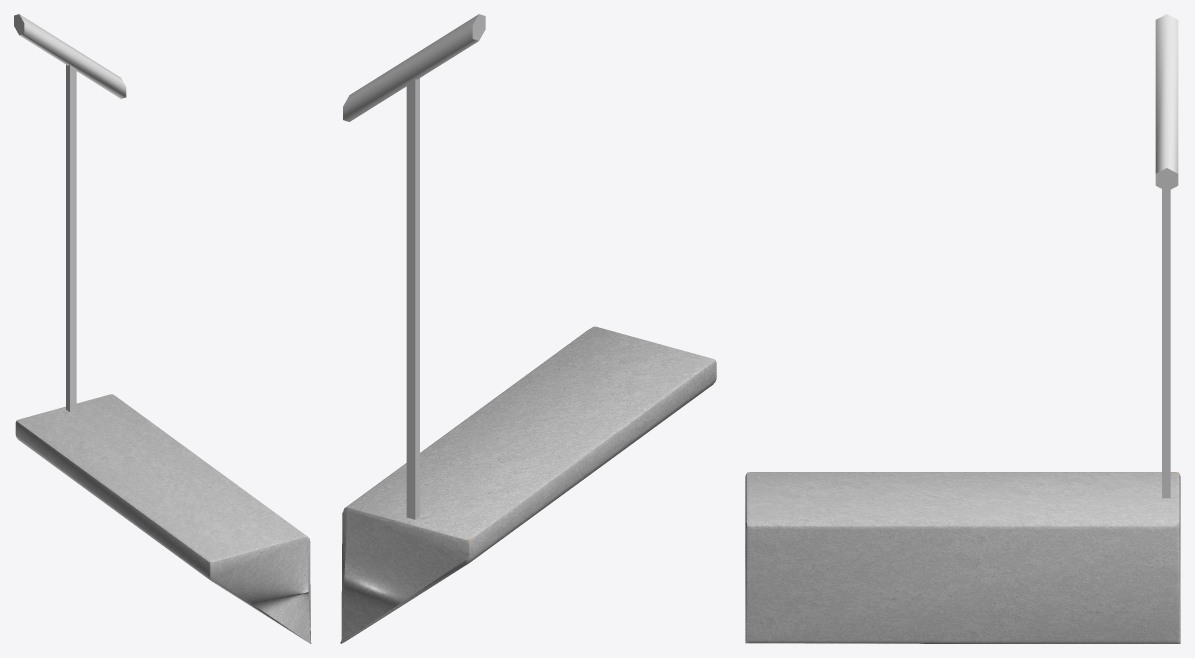
File: Stair.FBX
3 views of the same model, side by side, from view 1: azimuth 30°, elevation 25°; view 2: azimuth 150°, elevation 25°; view 3: azimuth 270°, elevation 25° (orthographic). The views are drawn at different scales.
Visible parts, largest first — view 1: Stair, Handle; view 2: Stair, Handle; view 3: Stair, Handle.
Part boxes in pixels (<box>): Stair: <box>15,394,311,643</box>; Handle: <box>14,14,126,412</box>; Stair: <box>340,326,716,643</box>; Handle: <box>343,14,485,519</box>; Stair: <box>745,472,1180,643</box>; Handle: <box>1155,14,1178,498</box>.
Size of the model in its own units: 306 by 1456 by 1000.
Materials: 1 (1 with a texture image).
